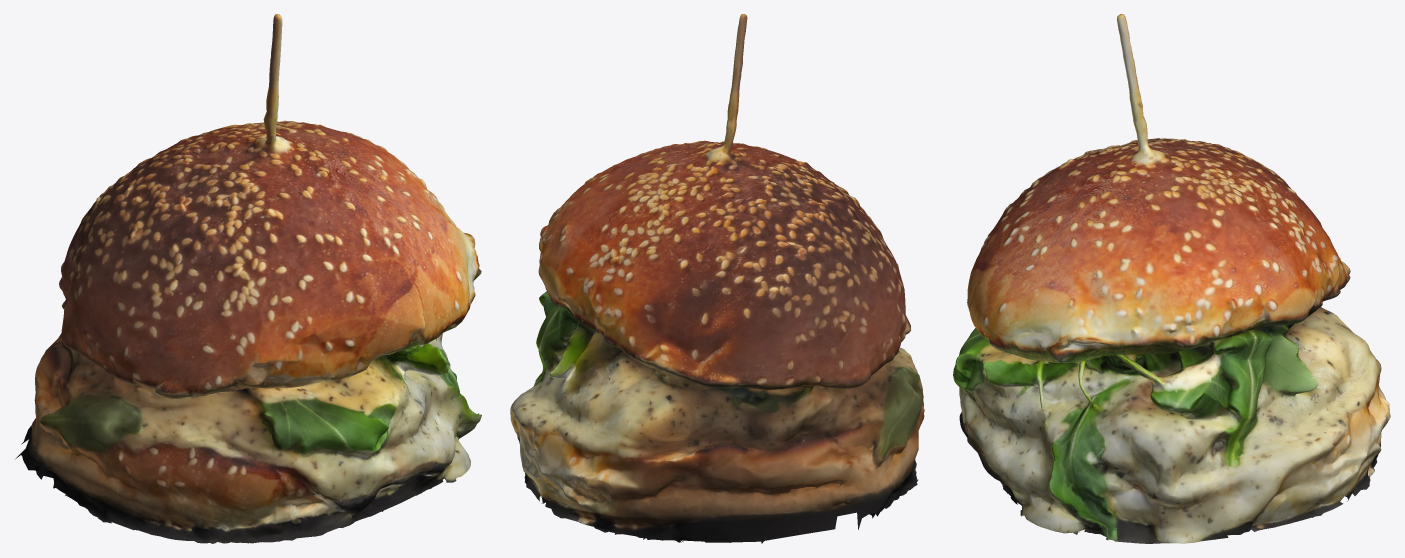
The model's file is burger1Vivo.obj.
The picture shows the model from 3 angles, left to right: view 1: azimuth 30°, elevation 25°; view 2: azimuth 150°, elevation 25°; view 3: azimuth 270°, elevation 25°; orthographic projection. The views are drawn at different scales.
Parts seen in each view (by area): view 1: mmGroup0; view 2: mmGroup0; view 3: mmGroup0.
Boxes of the visible parts, x1,y1,x2,y2 form: mmGroup0: (15,14,481,543); mmGroup0: (510,14,924,543); mmGroup0: (953,14,1390,543).
Bounding box in the file's own units: 0.0933 × 0.1072 × 0.0948.
